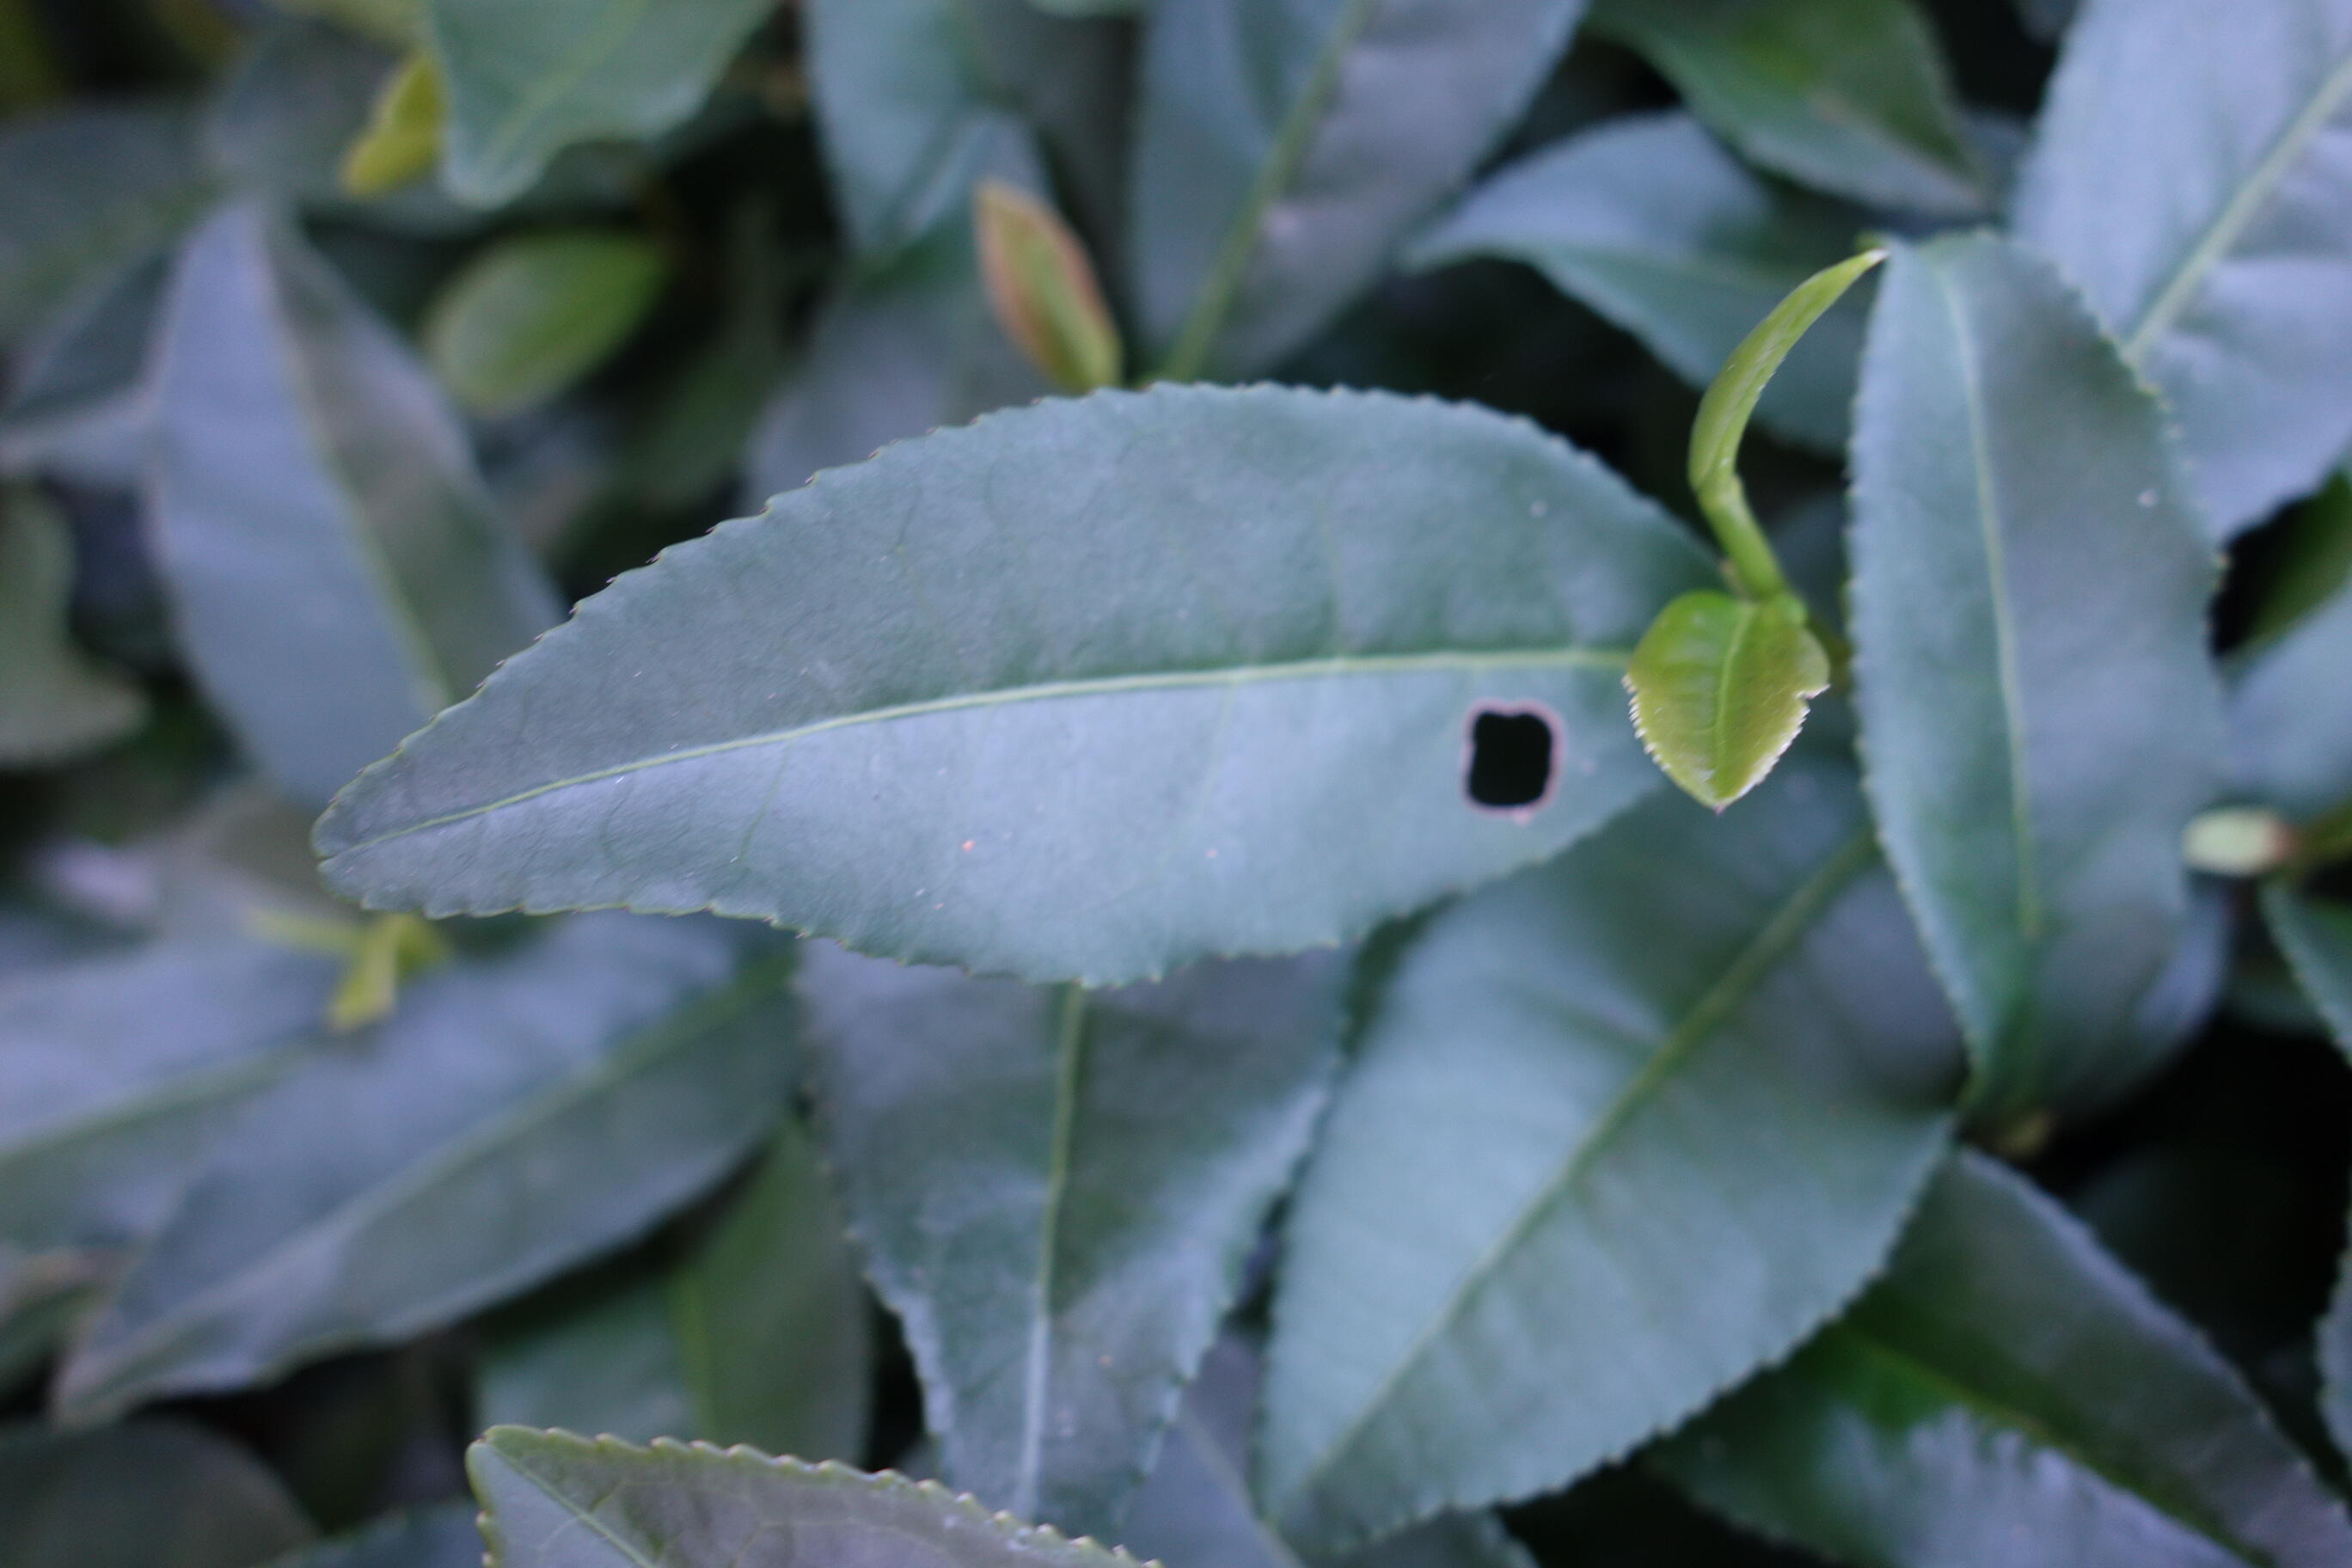chihuo_low: (311, 378, 1710, 987)
tanju_low: (1626, 584, 1839, 812)
